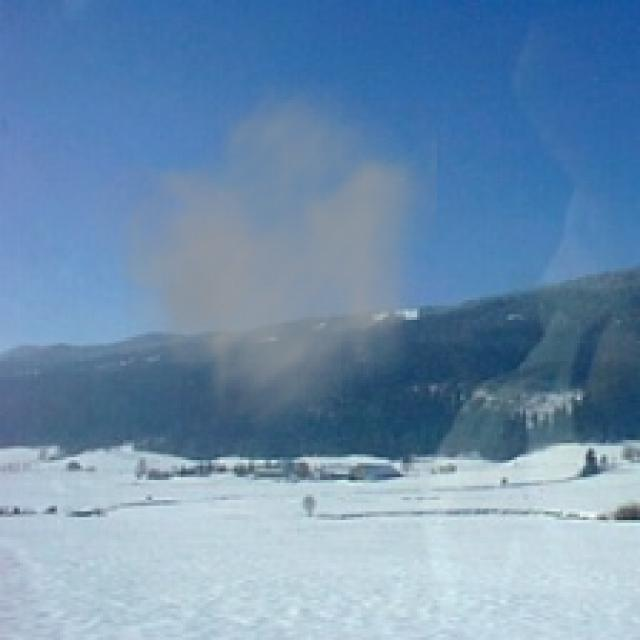smoke: (80, 68, 437, 446)
